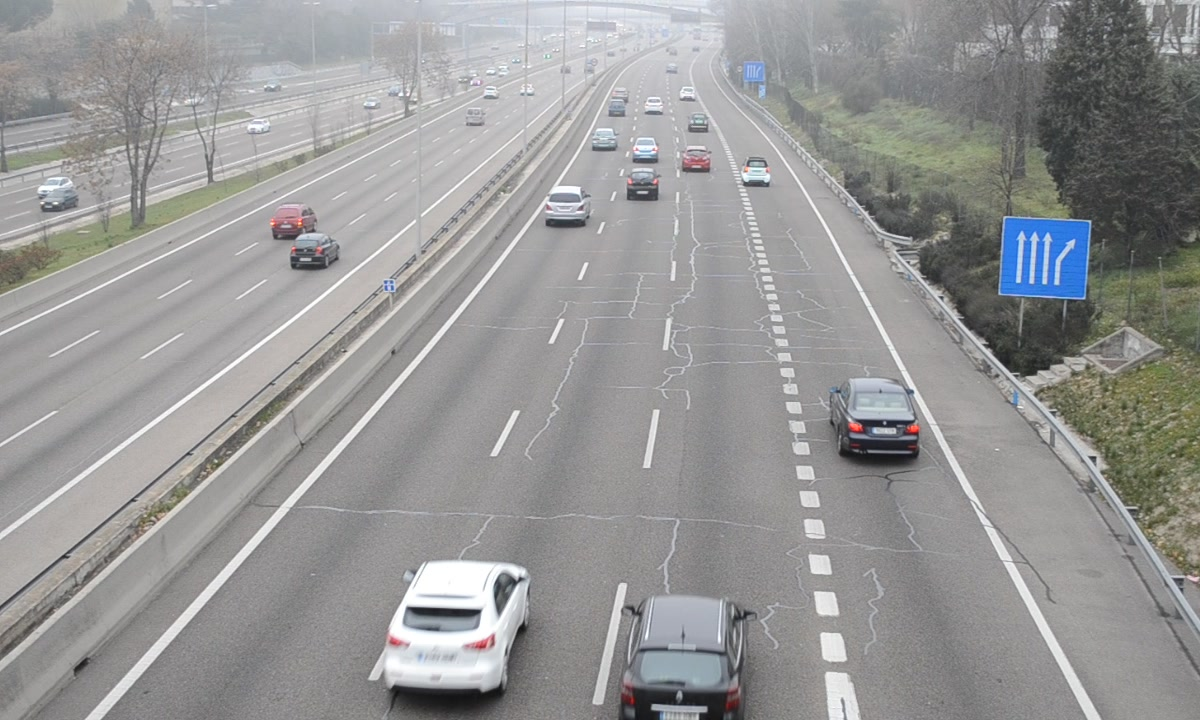car: (385, 562, 532, 699), (618, 596, 747, 720), (828, 374, 925, 459), (543, 185, 592, 228), (624, 168, 661, 203), (740, 155, 773, 188), (681, 145, 712, 174), (590, 128, 621, 153), (631, 136, 658, 162)
